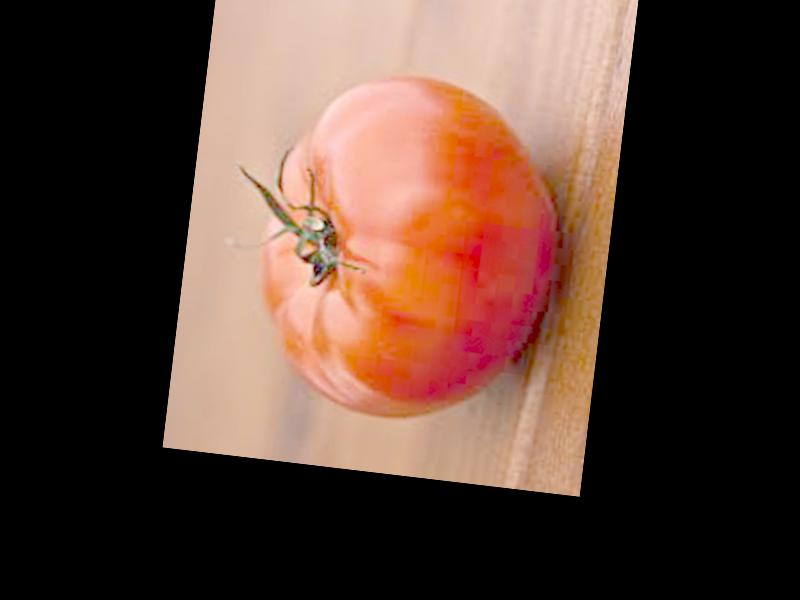Tomato: (244, 57, 574, 433)
